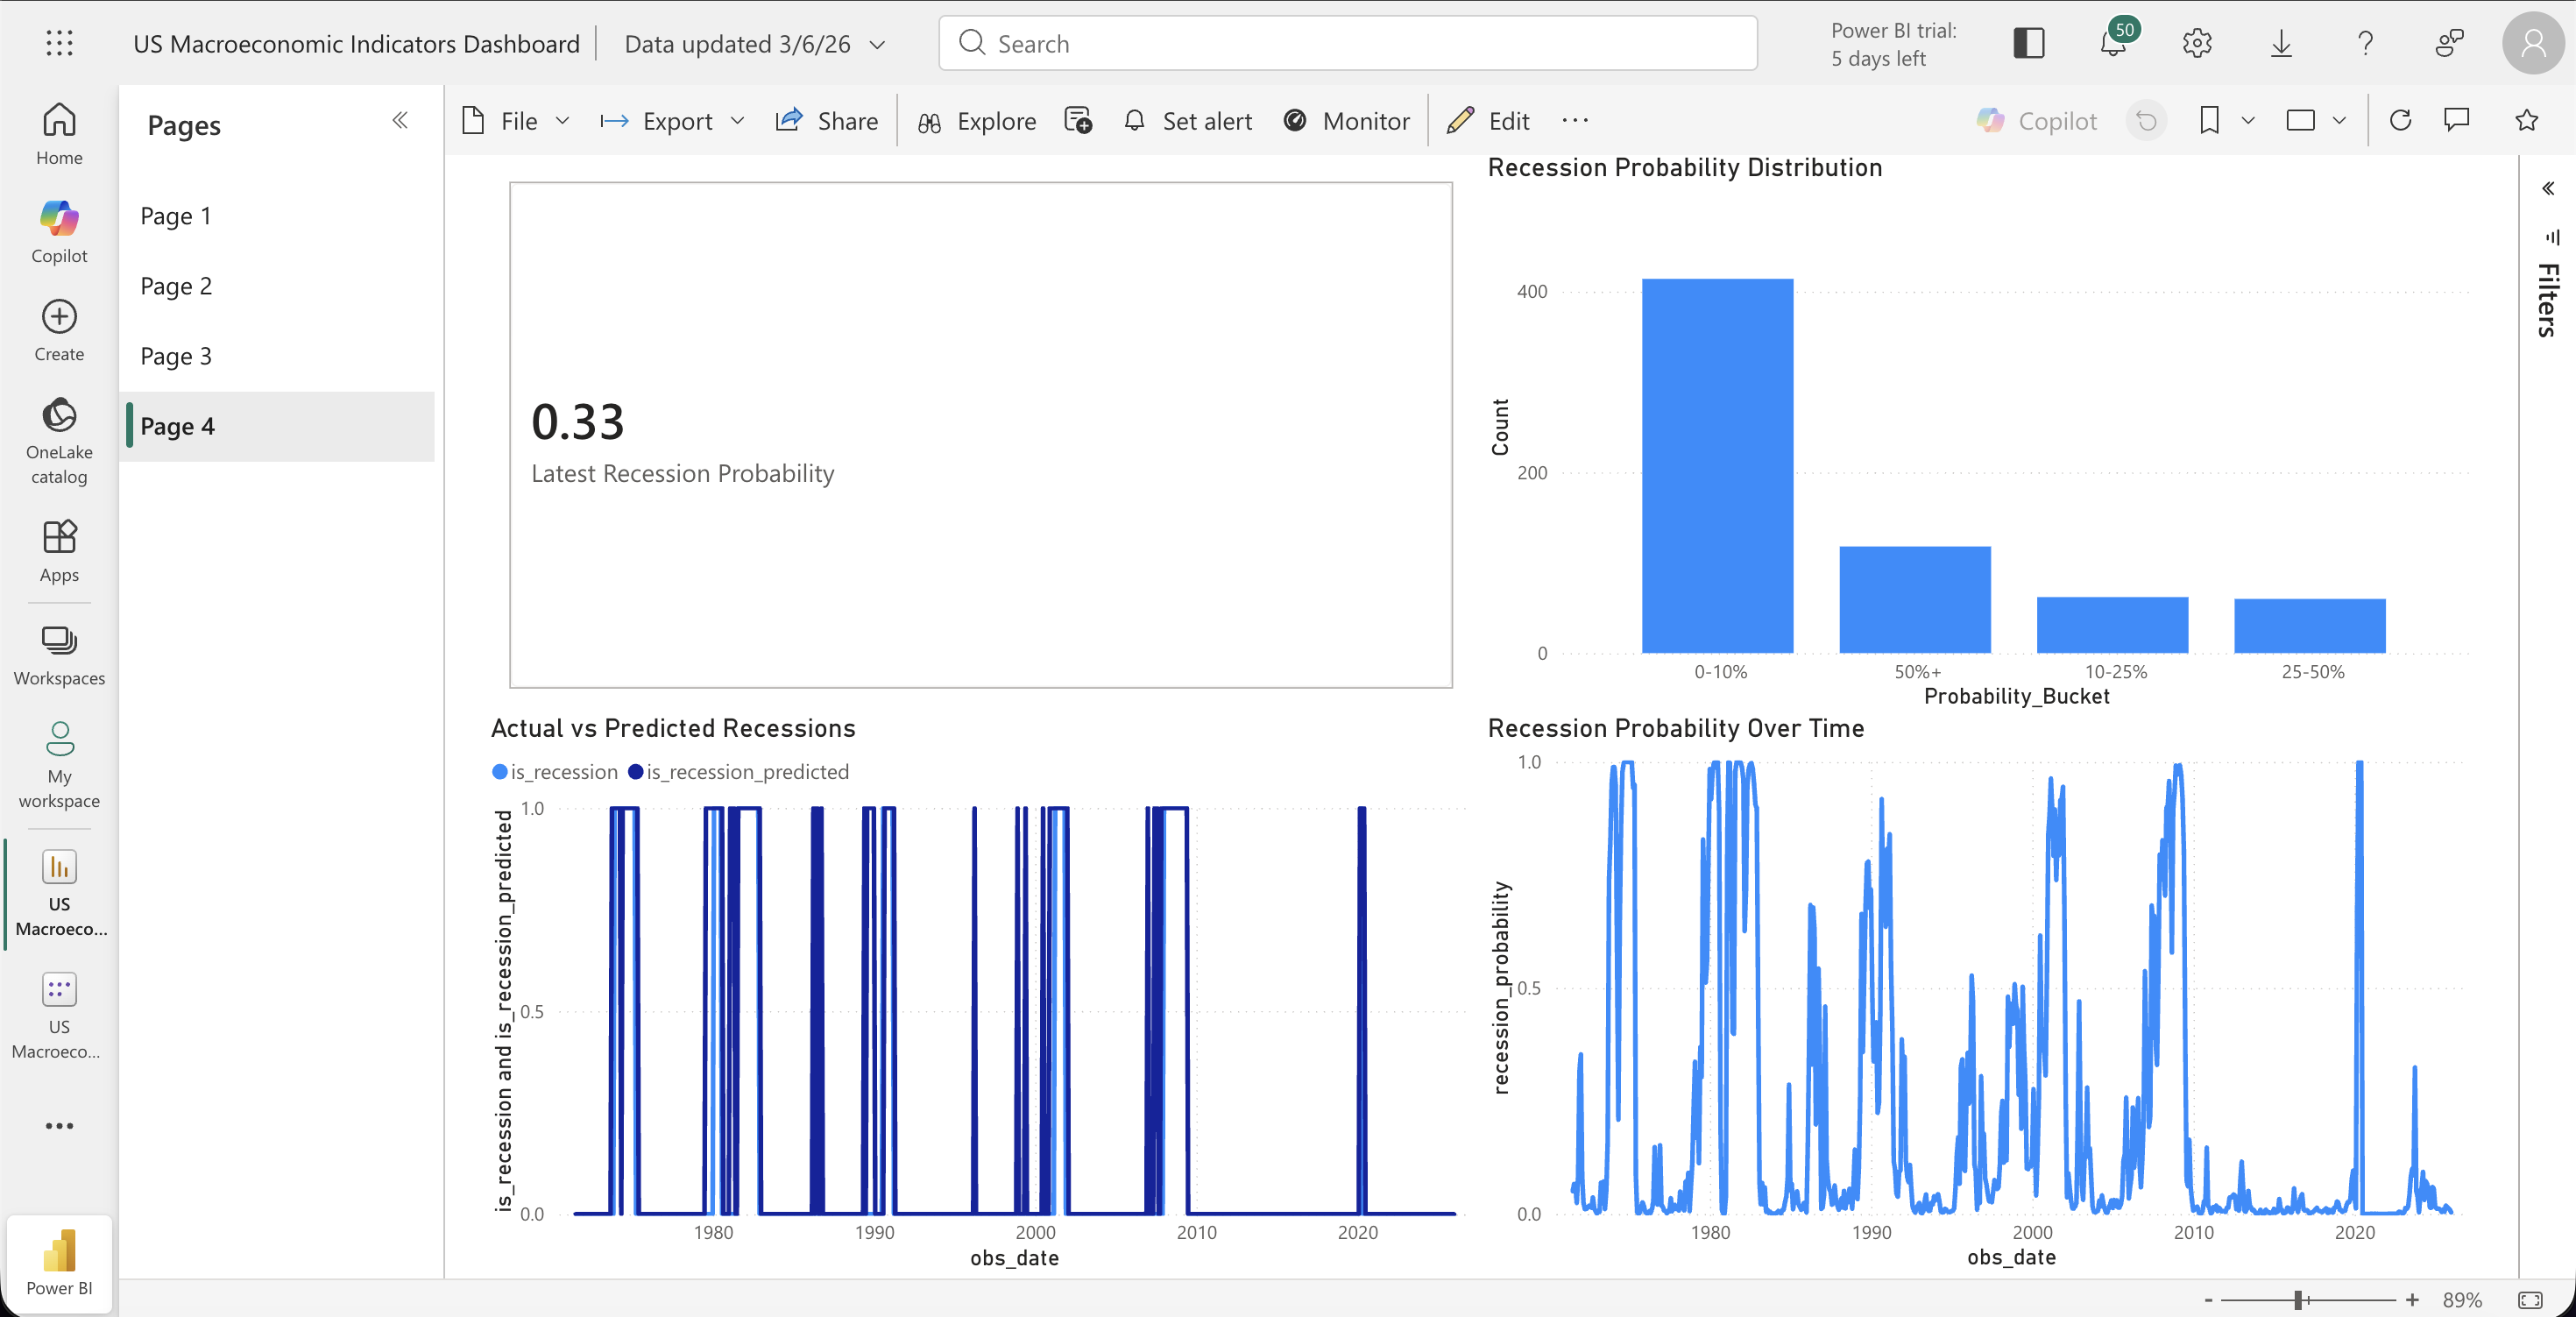

The dashboard page shown, as its layout file describes it:
{"tool":"powerbi","page":{"name":"Page 4","canvas":[1280,720],"ordinal":3},"visuals":[{"type":"lineChart","title":"Recession Probability Over Time","fields":{"Category":["recession_predictions.obs_date"],"Y":["Avg(recession_predictions.recession_probability)"]},"box":[639.4,359.7,640.6,359.7],"z":0},{"type":"lineChart","title":"Actual vs Predicted Recessions","fields":{"Category":["recession_predictions.obs_date"],"Y":["Avg(recession_predictions.is_recession)","Avg(recession_predictions.is_recession_predicted)"]},"box":[0,359.7,640.6,359.7],"z":1000},{"type":"cardVisual","fields":{"Data":["recession_predictions.Latest_Recession_Probability"]},"box":[0,0,639.4,359.7],"z":3000},{"type":"columnChart","title":"Recession Probability Distribution ","fields":{"Category":["recession_predictions.Probability_Bucket"],"Y":["CountNonNull(recession_predictions.Probability_Bucket)"]},"box":[639.4,0,640.6,359.7],"z":3001}]}

Visuals, with their boxes on the page's 1280x720 design canvas (x1, y1, x2, y2). These are canvas units, not pixel positions in the 2576x1317 screenshot, which may show the page scaled, cropped or inside an application window:
"Recession Probability Over Time" lineChart: x1=639, y1=360, x2=1280, y2=719
"Actual vs Predicted Recessions" lineChart: x1=0, y1=360, x2=641, y2=719
cardVisual - recession_predictions.Latest_Recession_Probability: x1=0, y1=0, x2=639, y2=360
"Recession Probability Distribution " columnChart: x1=639, y1=0, x2=1280, y2=360
